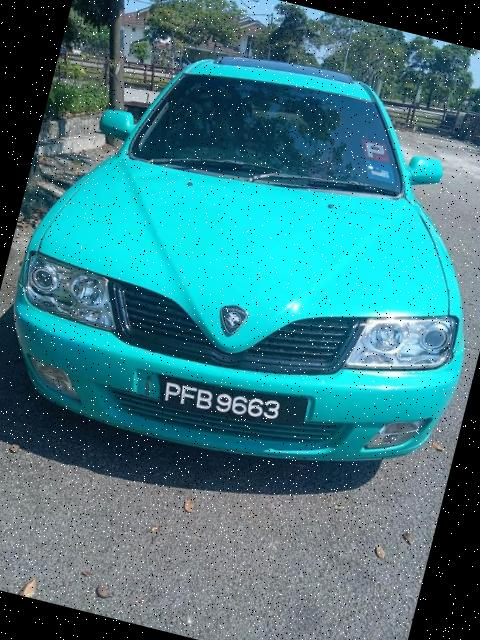License_Plate: (151, 366, 300, 439)
